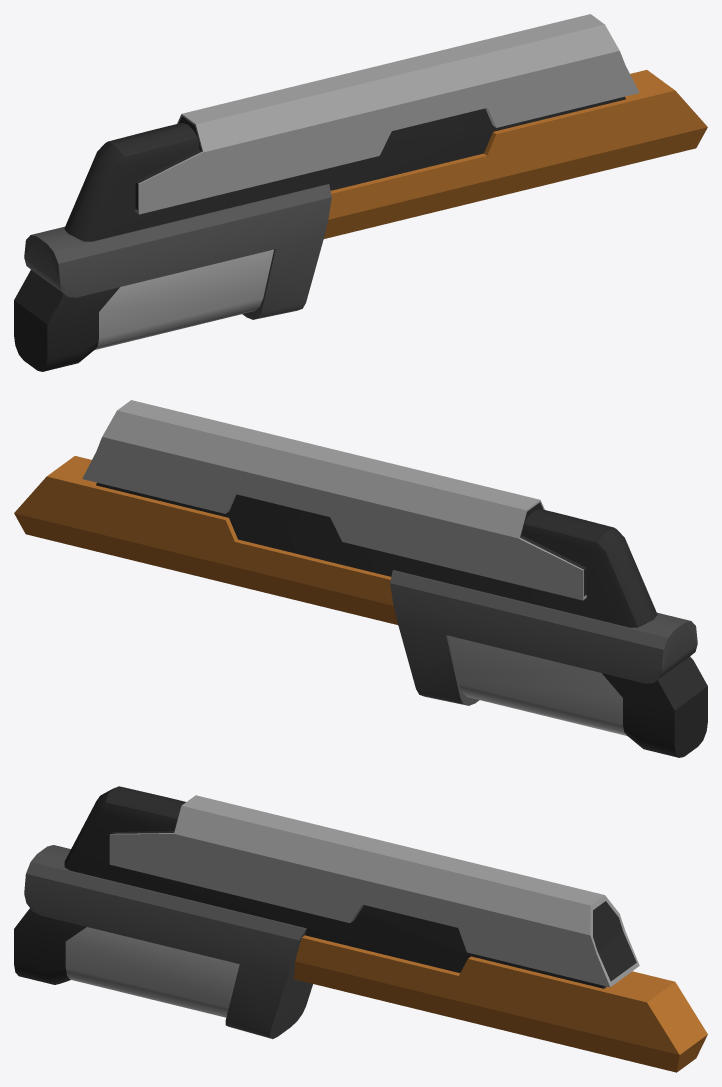
Rendered from quaternius-modular-sci-fi-guns-body-ar-5.glb.
3 views of the same model, one above another, from view 1: azimuth 30°, elevation 25°; view 2: azimuth 150°, elevation 25°; view 3: azimuth 330°, elevation 25° (orthographic).
Visible parts, largest first — view 1: Body_AR_5; view 2: Body_AR_5; view 3: Body_AR_5.
Boxes of the visible parts, x1=… form: Body_AR_5: x1=14, y1=14, x2=707, y2=371; Body_AR_5: x1=14, y1=400, x2=707, y2=757; Body_AR_5: x1=14, y1=786, x2=707, y2=1072.
Bounding box in the file's own units: 1.23 × 0.3696 × 0.1159.
